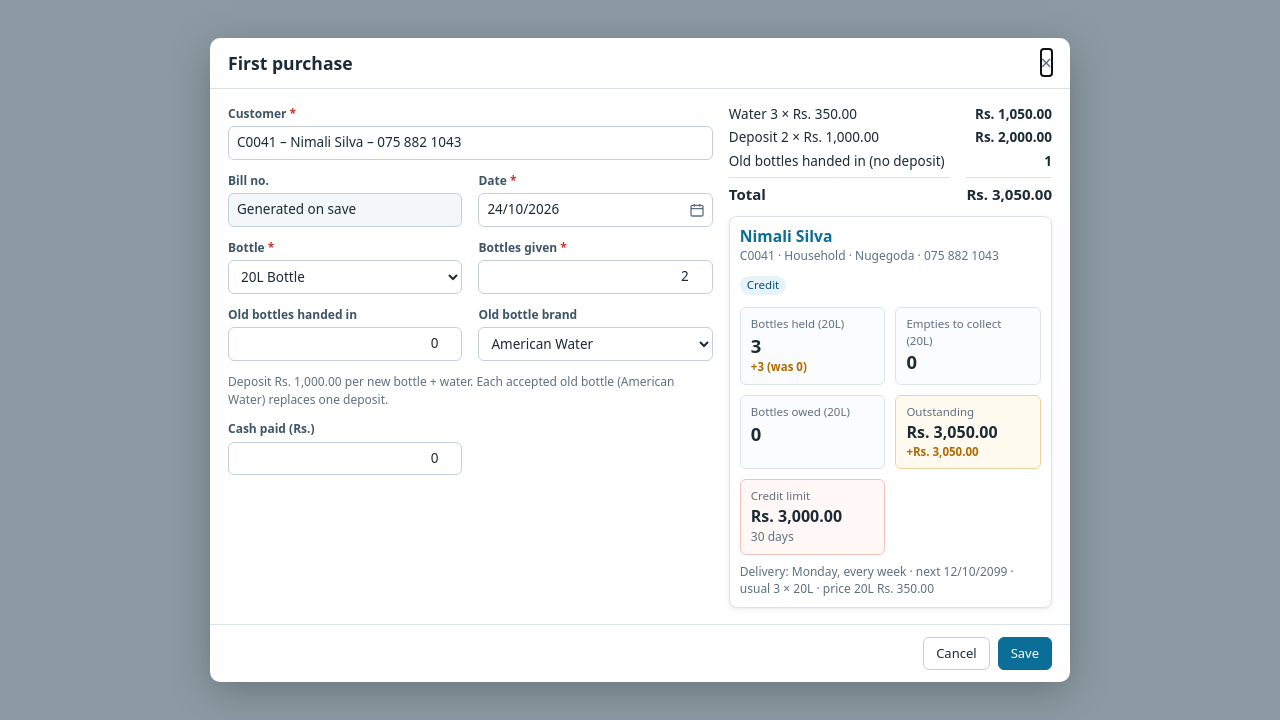
Test: First purchase › tells other users that only an Admin can approve
Check: the text "Water 3 × Rs. 350.00" is shown, box [729,105,857,123]
Click the button "Save" at {"x": 1025, "y": 654}, box [998,637,1052,670]
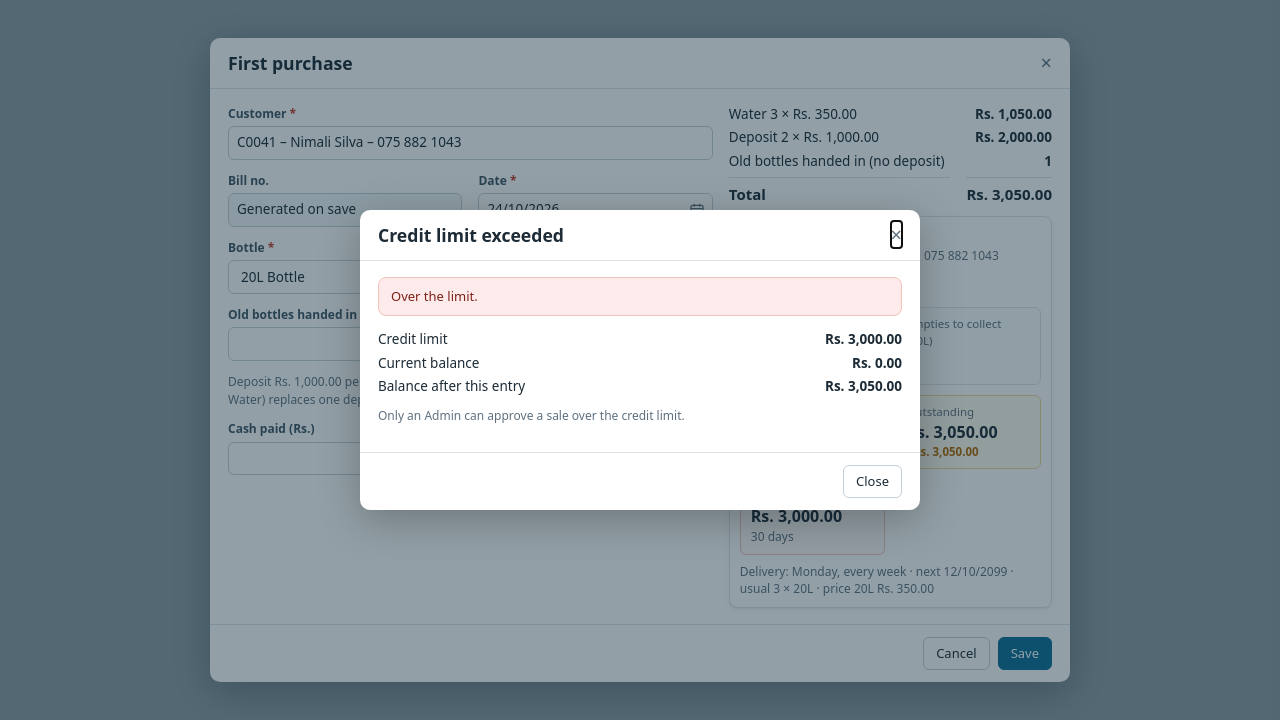
Check: the text "Only an Admin can approve a sale over the credit limit." is shown, box [378,407,685,424]
